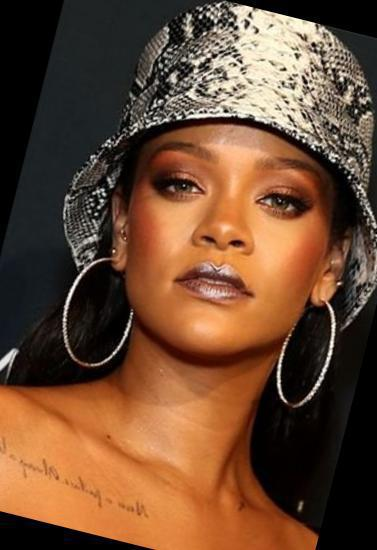Sober: (137, 127, 313, 355)
